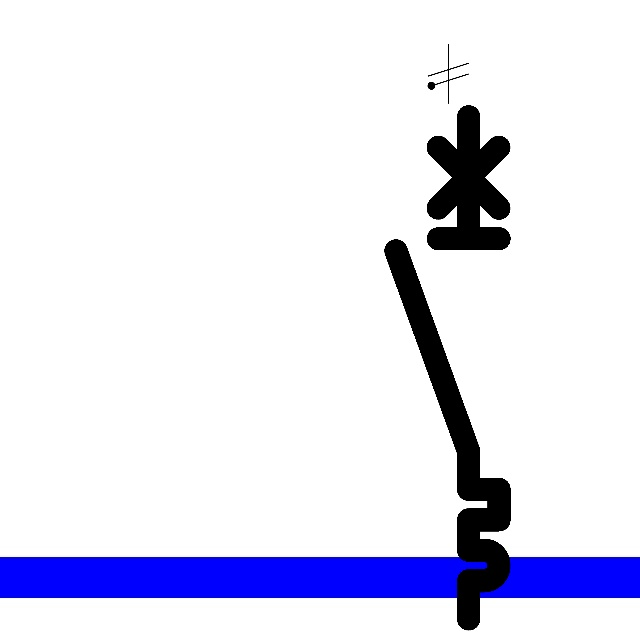interruptor_termomagnetico: (383, 103, 512, 631)
